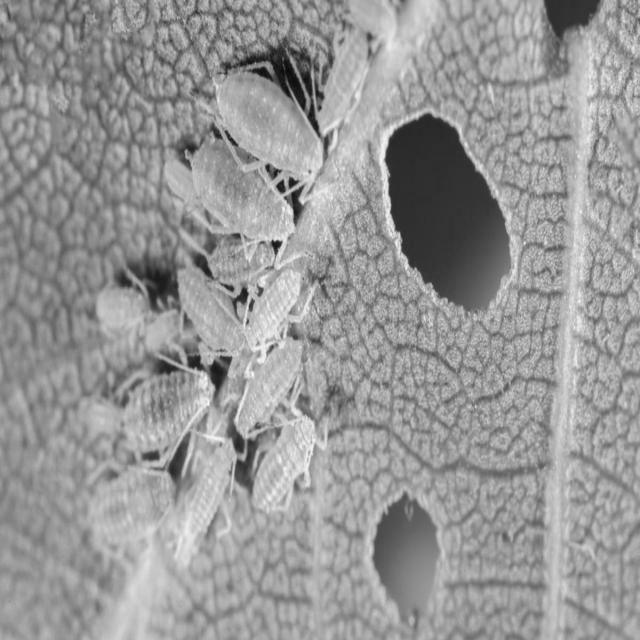Aphids: (80, 44, 363, 554), (374, 92, 532, 334), (359, 464, 461, 634)
